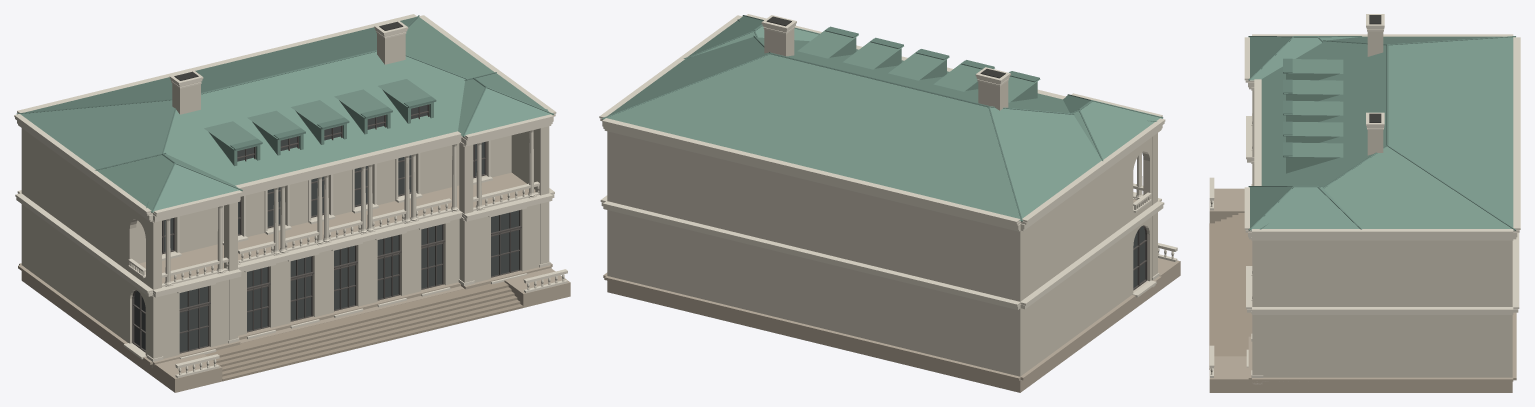
The model's file is changning-xingguo-guesthouse-01-lod.glb.
The picture shows the model from 3 angles, left to right: view 1: azimuth 30°, elevation 25°; view 2: azimuth 150°, elevation 25°; view 3: azimuth 270°, elevation 25°; orthographic projection. The views are drawn at different scales.
Visible parts, largest first — view 1: 兴国宾馆1号楼（太古洋行花园住宅）; view 2: 兴国宾馆1号楼（太古洋行花园住宅）; view 3: 兴国宾馆1号楼（太古洋行花园住宅）.
Boxes of the visible parts, box(x1,y1,x2,y2) form: 兴国宾馆1号楼（太古洋行花园住宅）: box(14, 14, 570, 392); 兴国宾馆1号楼（太古洋行花园住宅）: box(599, 14, 1180, 392); 兴国宾馆1号楼（太古洋行花园住宅）: box(1209, 14, 1520, 392).
Size of the model in its own units: 30.81 by 16.68 by 20.53.
